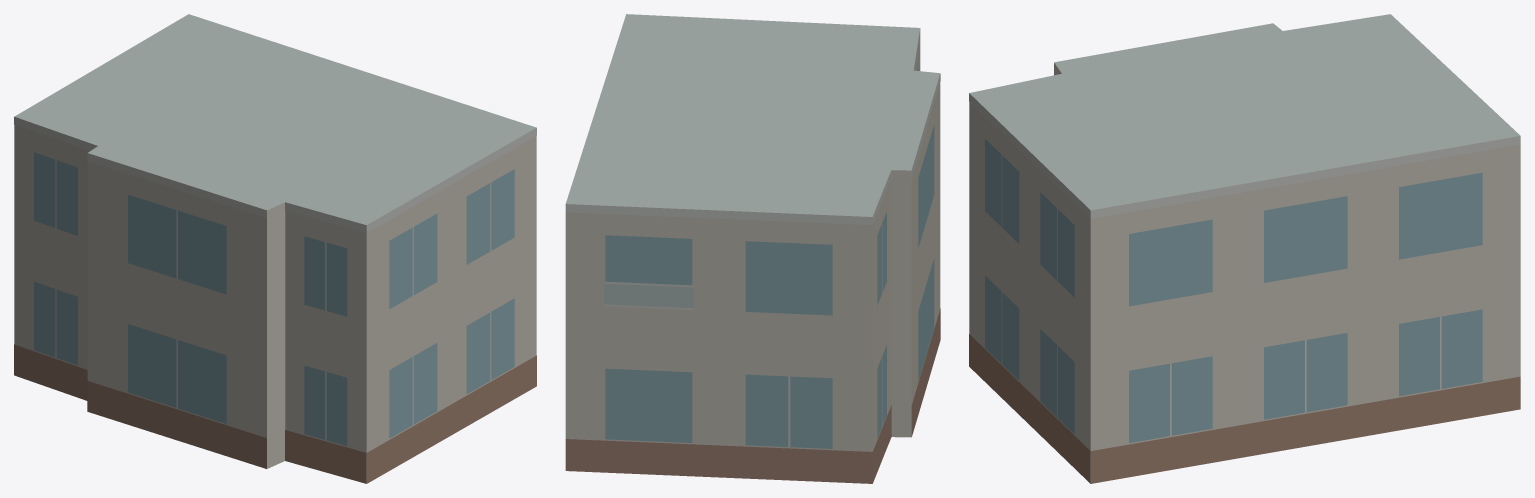
The model's file is survey-upis-32749300.glb.
3 views of the same model, side by side, from view 1: azimuth 30°, elevation 25°; view 2: azimuth 150°, elevation 25°; view 3: azimuth 270°, elevation 25° (orthographic). The views are drawn at different scales.
Parts seen in each view (by area): view 1: survey-upis-32749300.tmp; view 2: survey-upis-32749300.tmp; view 3: survey-upis-32749300.tmp.
Part boxes in pixels (x1=…): survey-upis-32749300.tmp: x1=14, y1=14, x2=536, y2=483; survey-upis-32749300.tmp: x1=565, y1=14, x2=940, y2=483; survey-upis-32749300.tmp: x1=969, y1=14, x2=1520, y2=483.
Bounding box in the file's own units: 12.1 × 7.85 × 14.36.
